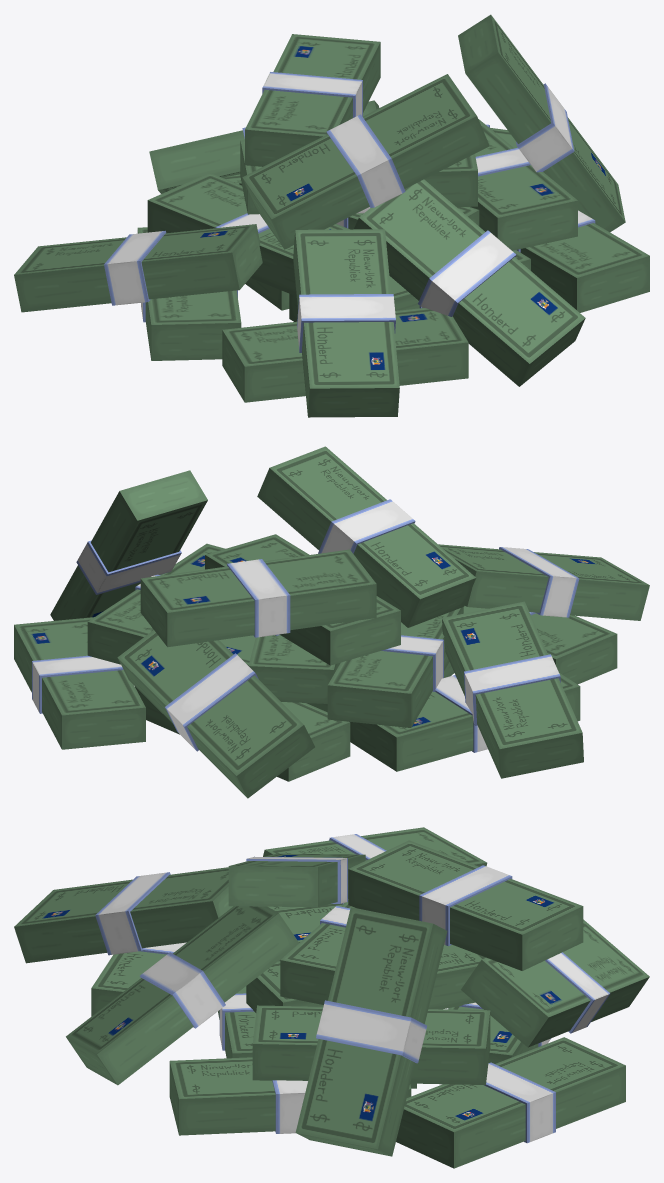
Rendered from MoneyStack.fbx.
3 views of the same model, one above another, from view 1: azimuth 30°, elevation 25°; view 2: azimuth 150°, elevation 25°; view 3: azimuth 270°, elevation 25° (orthographic). The views are drawn at different scales.
Visible parts, largest first — view 1: Money; view 2: Money; view 3: Money.
Part boxes in pixels (box(x1,y1,x2,y2)): Money: box(14, 14, 649, 417); Money: box(14, 446, 649, 798); Money: box(14, 827, 649, 1168).
Bounding box in the file's own units: 47.27 × 17.02 × 44.26.
Materials: 1 (1 with a texture image).
